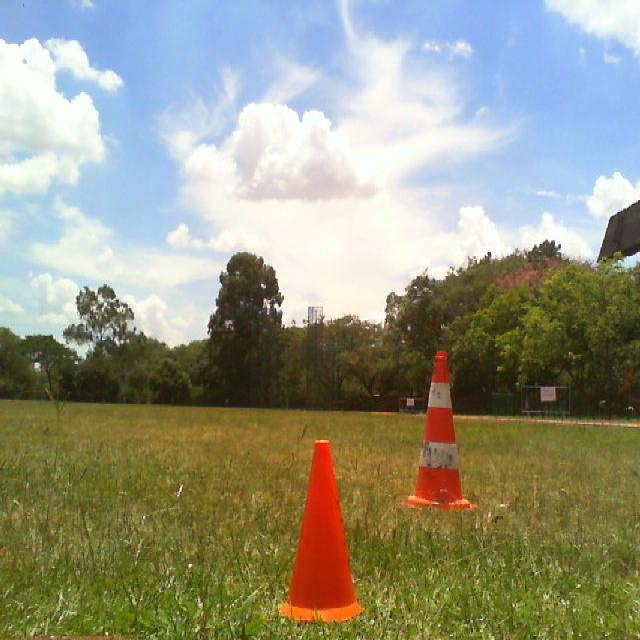cone: (280, 439, 364, 621), (407, 351, 476, 509)
